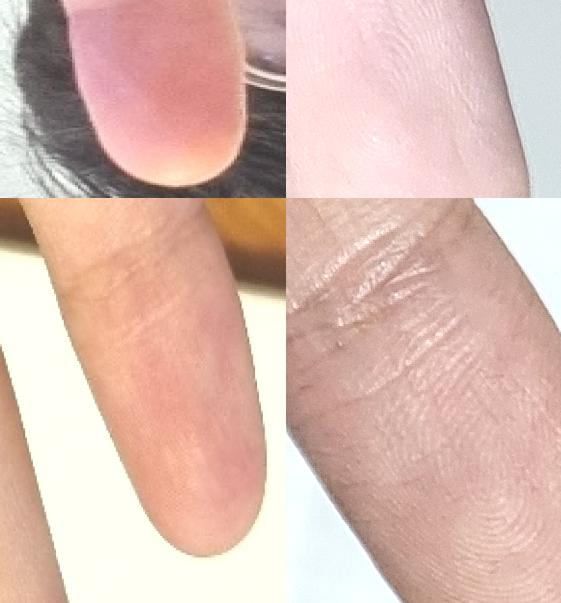Fingerprints: (286, 206, 561, 603), (54, 204, 265, 558), (286, 0, 530, 198), (68, 0, 245, 186)
